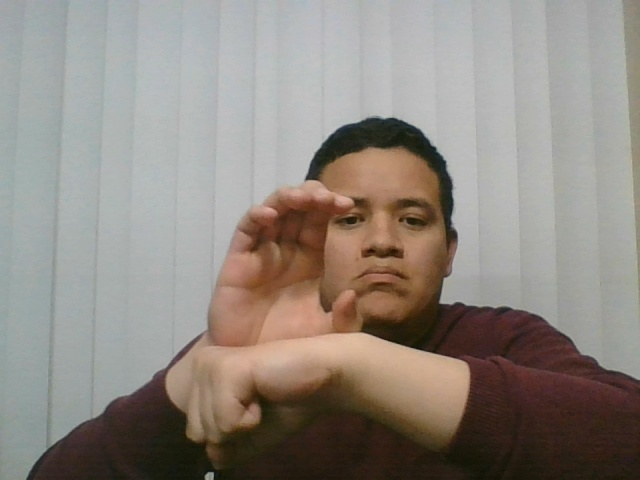Church: (157, 165, 382, 454)
